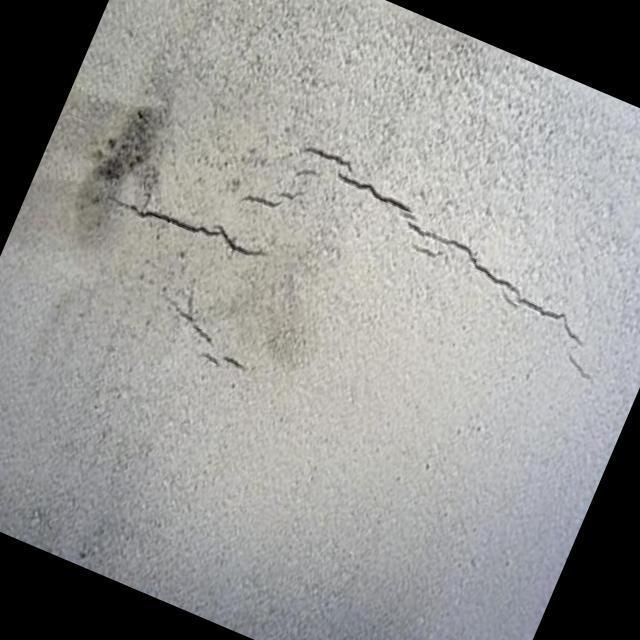defect: (237, 142, 593, 385), (102, 192, 266, 260), (171, 302, 249, 378)
